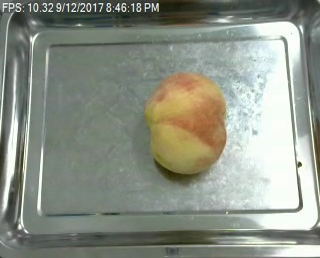Peach: (145, 71, 228, 175)
